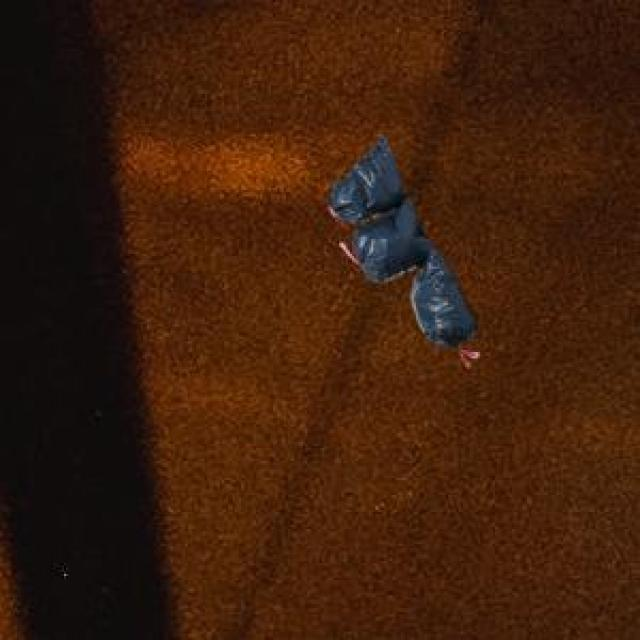miscellaneous trash: (324, 130, 474, 344)
